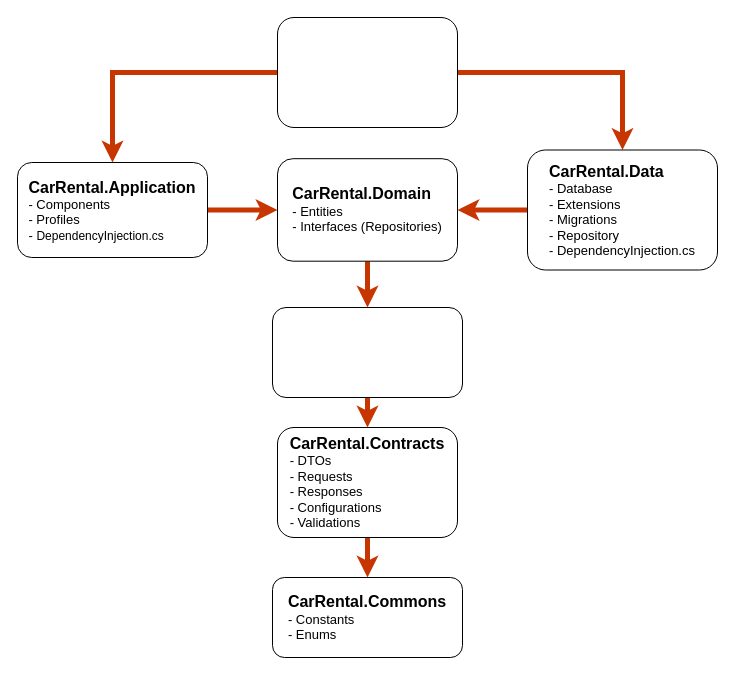
Image size: 735x675. Some labels were removed from this diagram. Each missing label, with the centre of its shape:
"CarRental.Api - Controllers - Extensions - Program.cs - appsettings" belongs at point 367,72.
"CarRental.Utility - Helpers - Services - DependencyInjection.cs" belongs at point 367,352.
